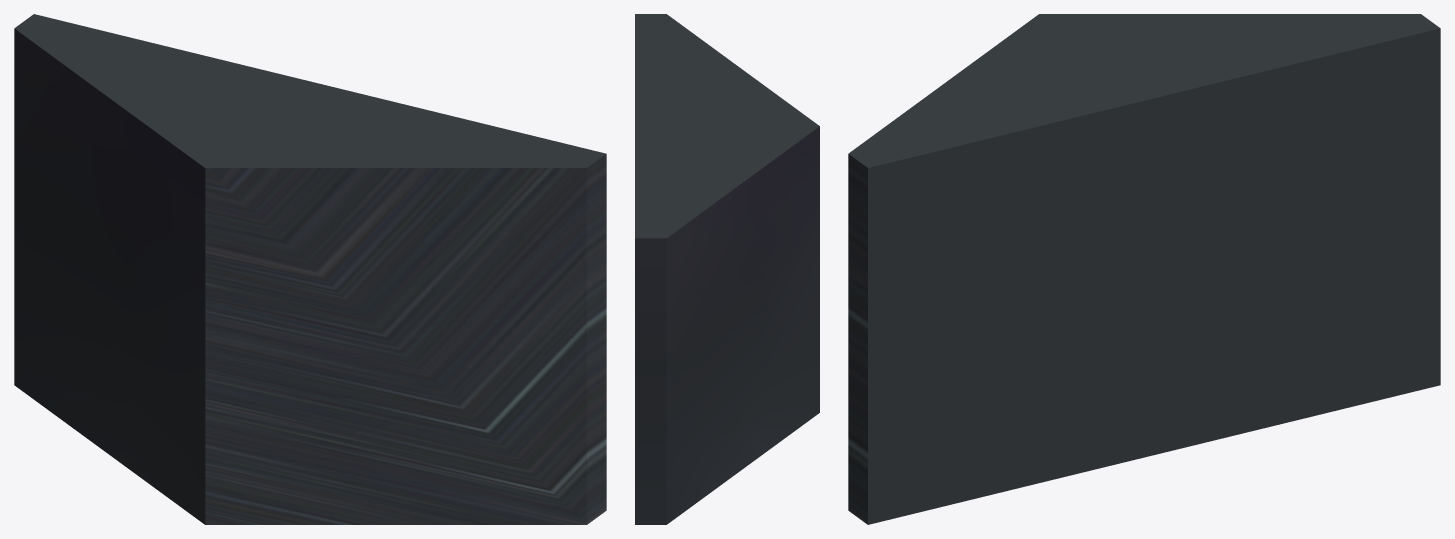
The model's file is TriLeft.obj.
3 renders of one model, left to right at view 1: azimuth 30°, elevation 25°; view 2: azimuth 150°, elevation 25°; view 3: azimuth 270°, elevation 25°, orthographic. The views are drawn at different scales.
Parts seen in each view (by area): view 1: TriangleBumper.002_Cube.011; view 2: TriangleBumper.002_Cube.011; view 3: TriangleBumper.002_Cube.011.
Boxes of the visible parts, bbox=[...] form: TriangleBumper.002_Cube.011: bbox=[14, 14, 606, 524]; TriangleBumper.002_Cube.011: bbox=[635, 14, 819, 524]; TriangleBumper.002_Cube.011: bbox=[848, 14, 1440, 524].
Size of the model in its own units: 0.4632 by 0.5 by 0.7523.
1 material, 1 textured.
